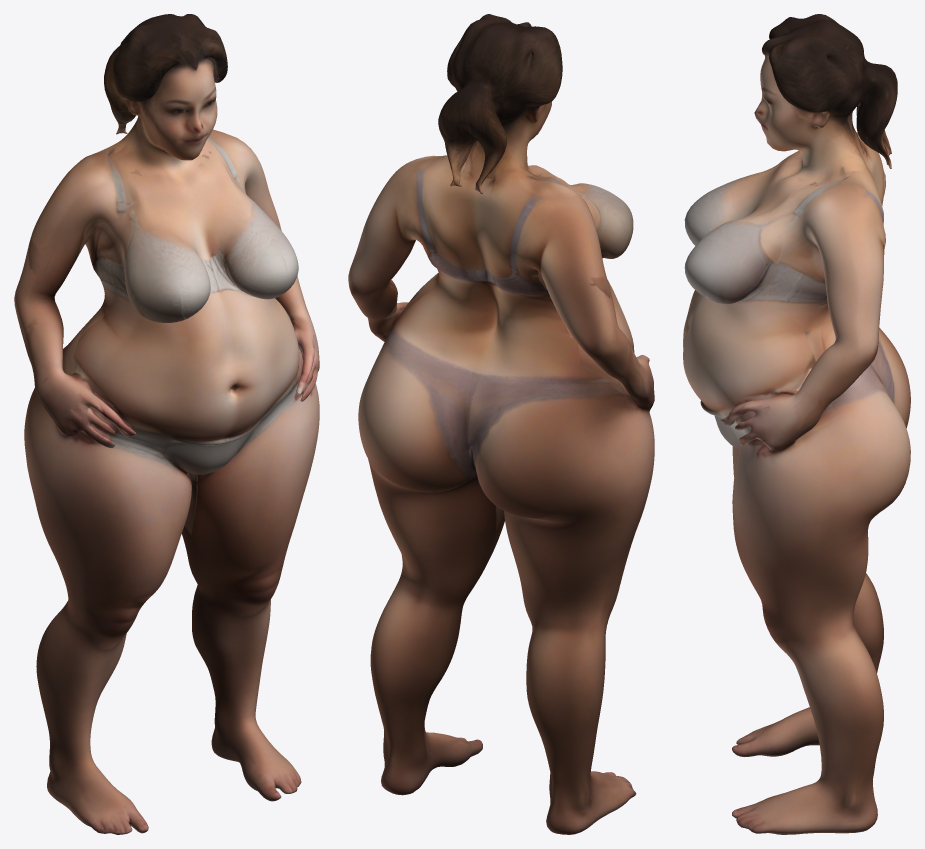
Rendered from endomorfo.glb.
3 views of the same model, side by side, from view 1: azimuth 30°, elevation 25°; view 2: azimuth 150°, elevation 25°; view 3: azimuth 270°, elevation 25° (orthographic).
Bounding box in the file's own units: 0.7413 × 2 × 0.5397.
1 material, 1 textured.
